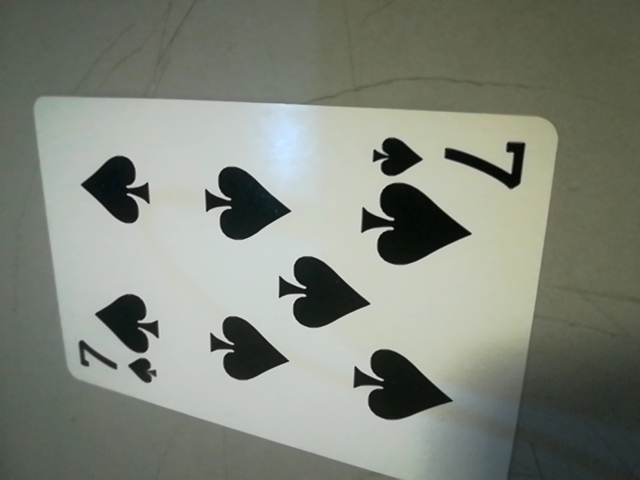ht 7: (365, 128, 535, 189)
